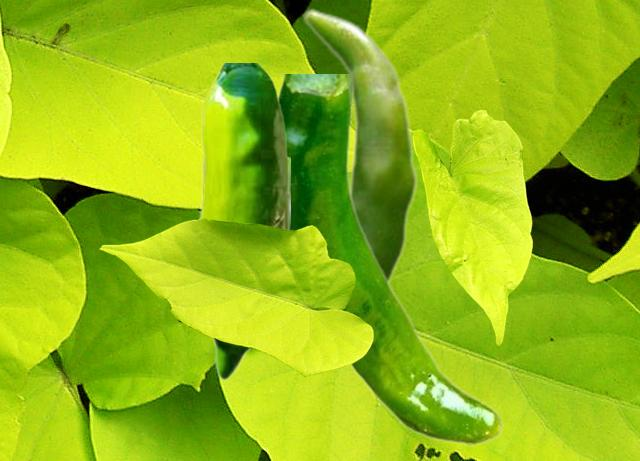green_chili: (277, 74, 502, 445), (301, 7, 418, 282), (196, 63, 289, 379)
